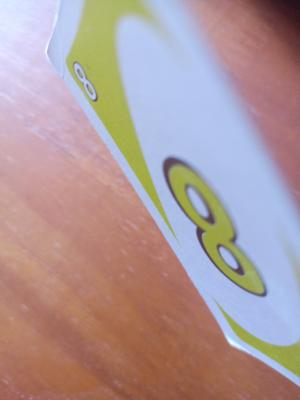num_8: (157, 134, 295, 310)
yellow: (68, 41, 133, 105)
